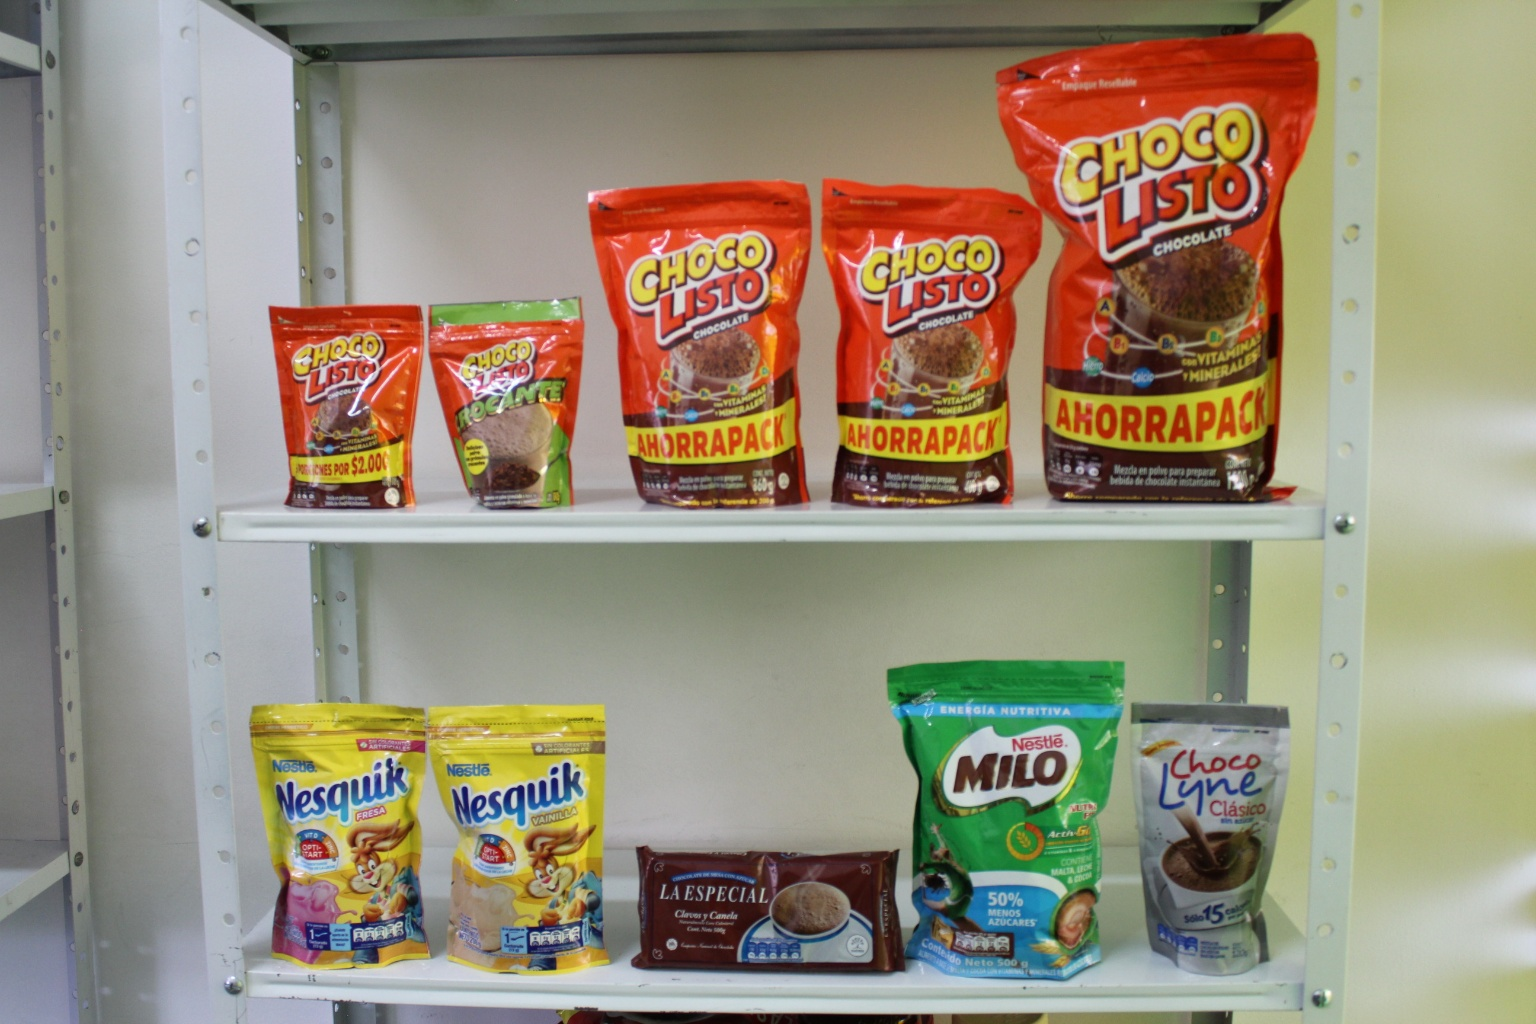COL0170102DYP10000: (418, 299, 587, 517)
COL0170103DYP1,500: (997, 24, 1325, 505)
COL0170103DYP10000: (253, 293, 411, 512)
COL0170103DYP36000: (578, 170, 813, 511)
COL0170103DYP40000: (813, 171, 1039, 502)
COL0170205DYP50000: (885, 649, 1136, 989)
COL0170305DYP20000: (247, 689, 440, 970)
COL0170306DYP20000: (427, 693, 623, 967)
